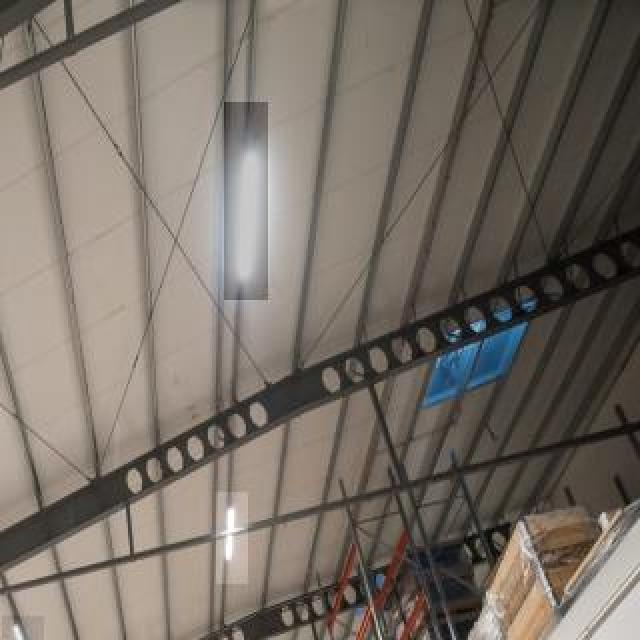fluorescent tube: (220, 109, 271, 306), (213, 489, 258, 578), (2, 616, 38, 640)
